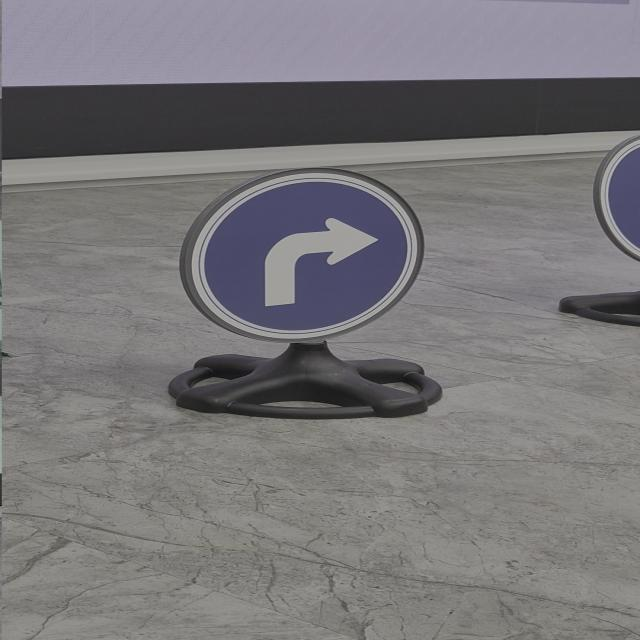right_dierection: (148, 159, 448, 343)
